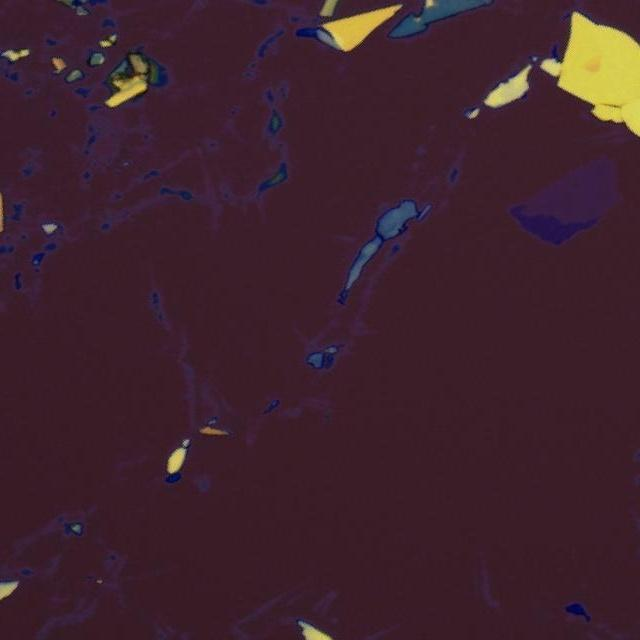monolayer-eWW4: (525, 153, 620, 220)
